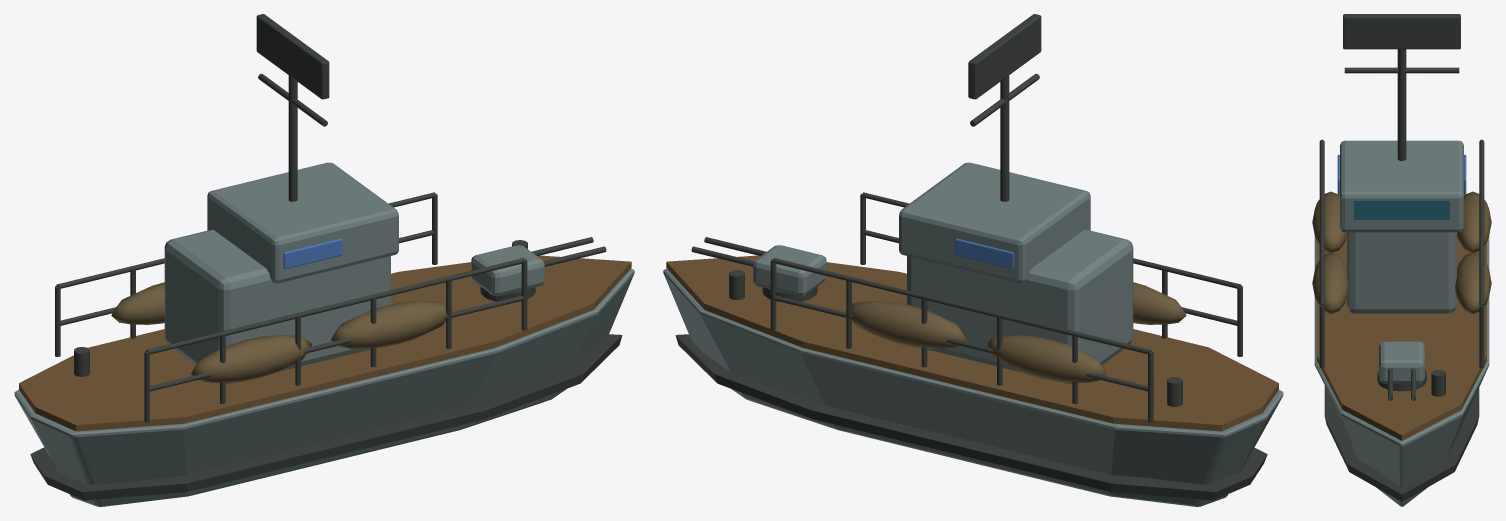
Rendered from patrolboat.glb.
3 renders of one model, left to right at view 1: azimuth 30°, elevation 25°; view 2: azimuth 150°, elevation 25°; view 3: azimuth 270°, elevation 25°, orthographic. The views are drawn at different scales.
Parts seen in each view (by area): view 1: NavalPaint, Timber, Steel, Canvas, TeamColor; view 2: NavalPaint, Timber, Steel, Canvas, TeamColor; view 3: NavalPaint, Timber, Steel, Canvas, Optics, TeamColor.
Boxes of the visible parts, <box> form: NavalPaint: <box>14,162,634,506</box>; Timber: <box>19,255,631,431</box>; Steel: <box>30,14,622,500</box>; Canvas: <box>111,282,452,383</box>; TeamColor: <box>283,238,342,269</box>; NavalPaint: <box>663,162,1283,506</box>; Timber: <box>666,255,1278,431</box>; Steel: <box>675,14,1267,500</box>; Canvas: <box>845,282,1186,383</box>; TeamColor: <box>955,238,1014,269</box>; NavalPaint: <box>1314,140,1489,506</box>; Timber: <box>1317,194,1486,440</box>; Steel: <box>1319,14,1484,501</box>; Canvas: <box>1312,191,1491,313</box>; Optics: <box>1354,200,1449,219</box>; TeamColor: <box>1337,154,1466,194</box>.
Size of the model in its own units: 5.95 by 3.83 by 1.72.
